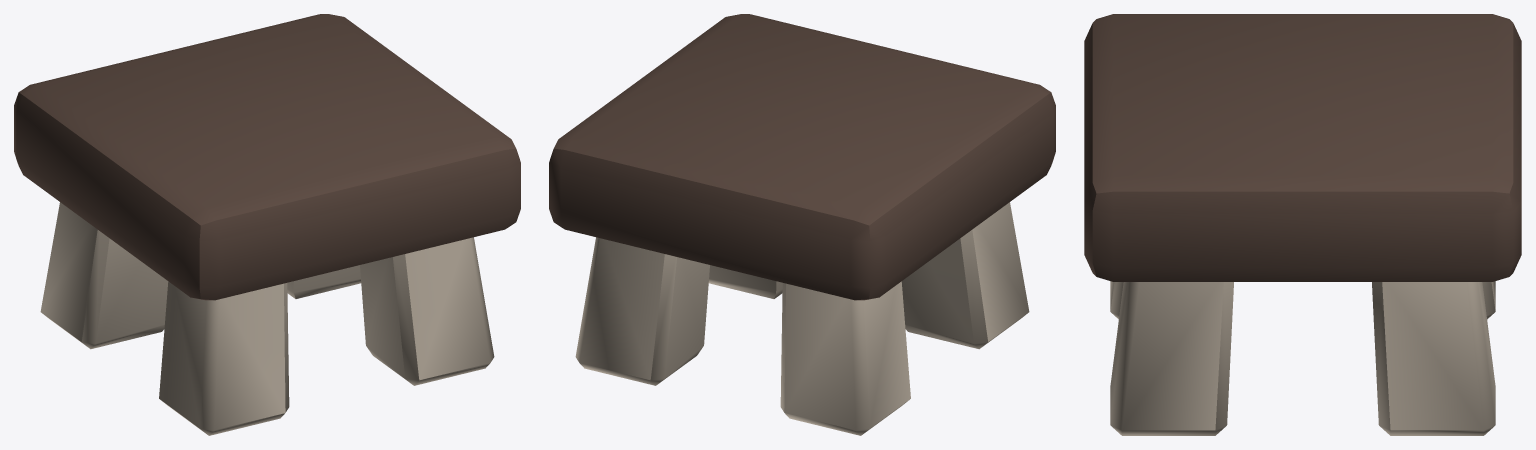
File: chair_stool.obj
3 renders of one model, left to right at view 1: azimuth 30°, elevation 25°; view 2: azimuth 150°, elevation 25°; view 3: azimuth 270°, elevation 25°, orthographic. The views are drawn at different scales.
Parts seen in each view (by area): view 1: chair_stool_Cube.033; view 2: chair_stool_Cube.033; view 3: chair_stool_Cube.033.
Part boxes in pixels (x1,y1,x2,y2): chair_stool_Cube.033: [14, 14, 520, 435]; chair_stool_Cube.033: [549, 14, 1055, 435]; chair_stool_Cube.033: [1084, 14, 1521, 435].
Bounding box in the file's own units: 0.75 × 0.5 × 0.75.
Materials: 1 (1 with a texture image).
